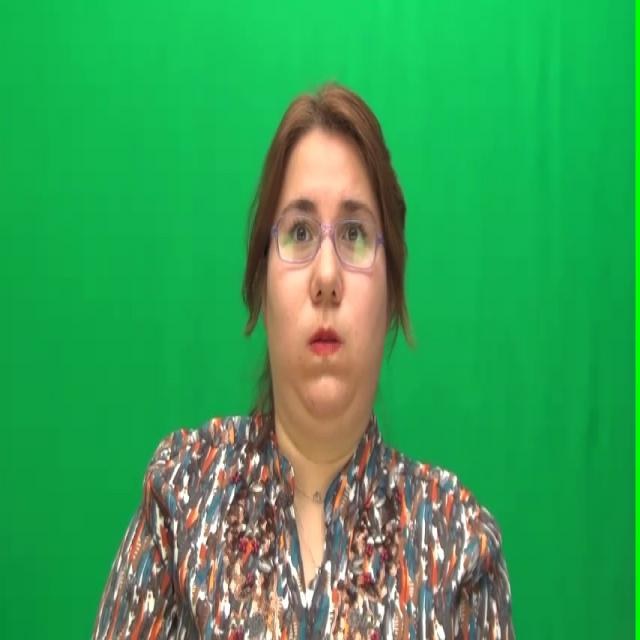Boredom: (265, 123, 382, 404)
